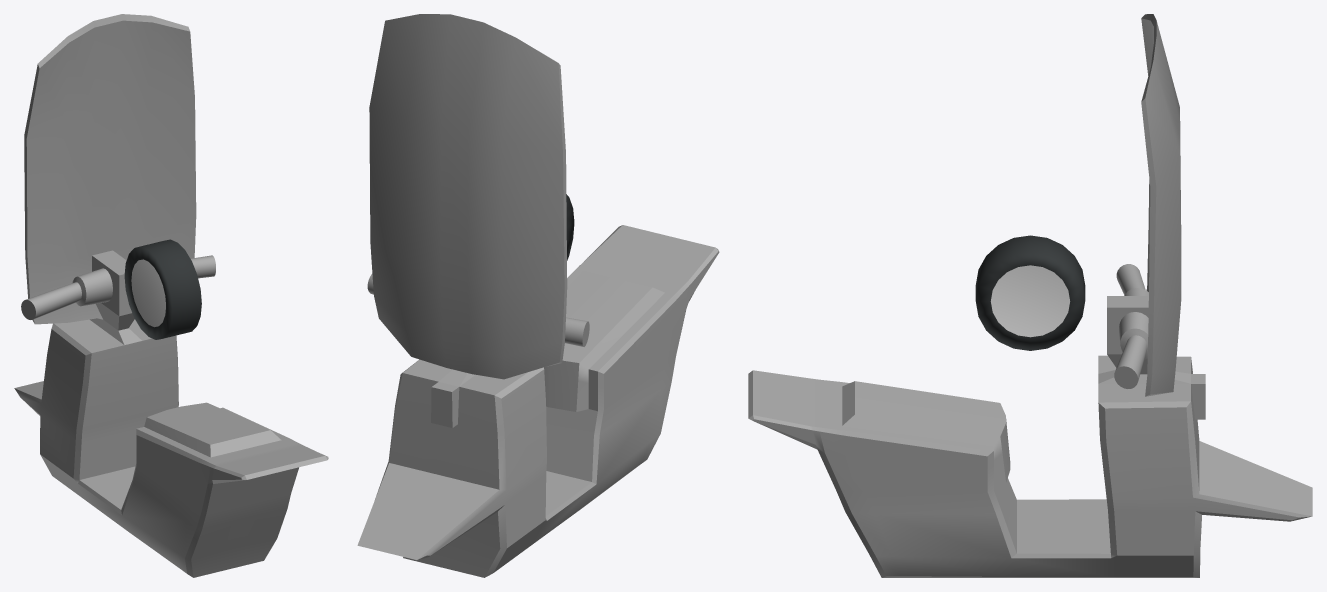
The model's file is scooter A.fbx.
3 renders of one model, left to right at view 1: azimuth 30°, elevation 25°; view 2: azimuth 150°, elevation 25°; view 3: azimuth 270°, elevation 25°, orthographic. The views are drawn at different scales.
Visible parts, largest first — view 1: scooter_A, scooter_A_wheel; view 2: scooter_A; view 3: scooter_A, scooter_A_wheel.
Part boxes in pixels (box(x1,y1,x2,y2)): scooter_A: box(14, 14, 328, 577); scooter_A_wheel: box(124, 239, 201, 339); scooter_A: box(357, 14, 719, 577); scooter_A: box(748, 14, 1312, 577); scooter_A_wheel: box(975, 235, 1085, 350).
Bounding box in the file's own units: 55.05 × 130 × 126.
